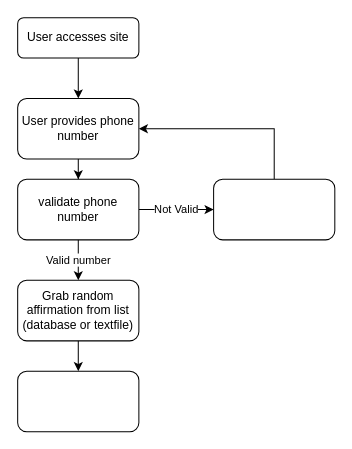
The diagram is 352 pixels wide and 449 high, and some of its shapes have lost their labels. Each missing label, with the centre of its shape:
"Compose new message and send via twilio api" belongs at (78,401).
"Warn user, retype phone" belongs at (274,209).
